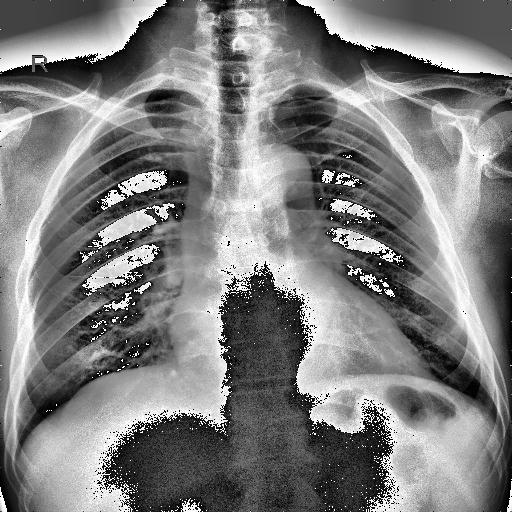0- Aortic enlargement: (238, 148, 315, 218), (241, 142, 314, 198), (249, 143, 310, 201)
3- Cardiomegaly: (165, 308, 438, 380), (166, 313, 422, 386)
